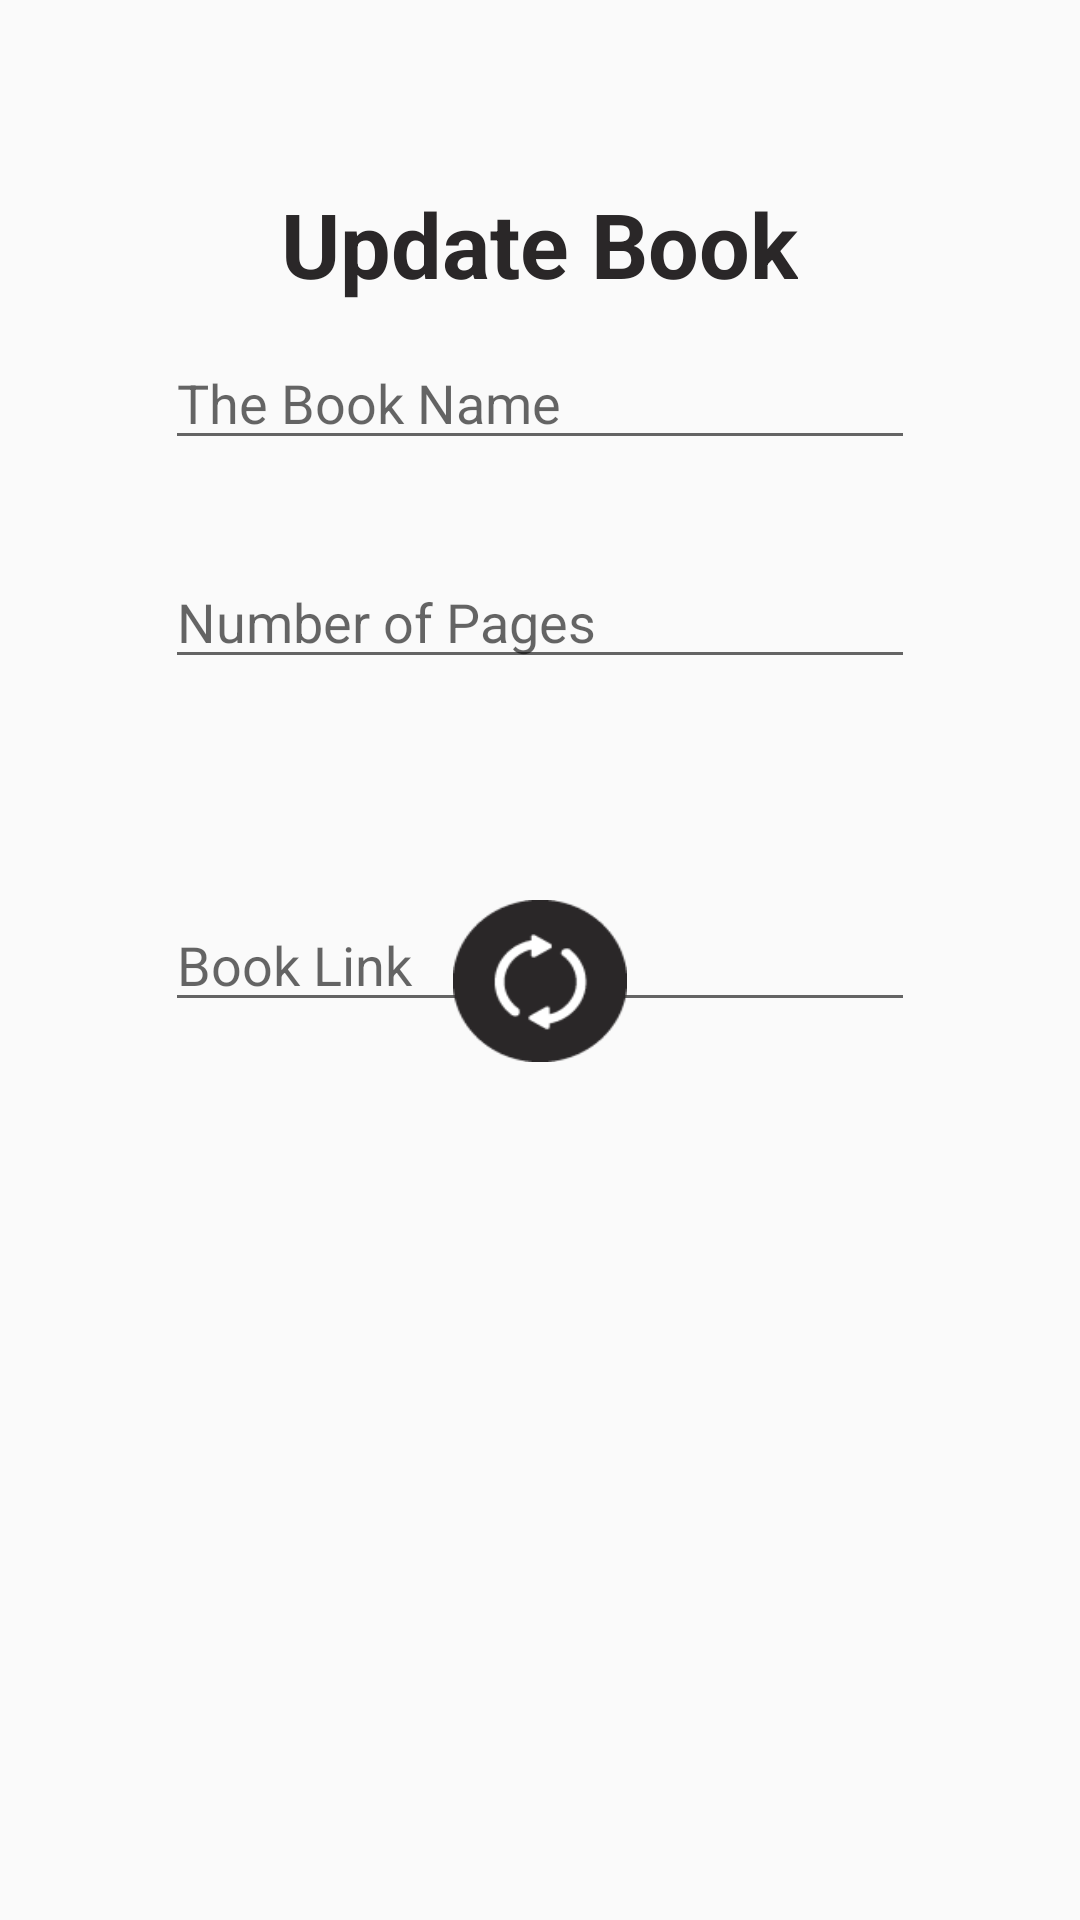

Named icons in this screenshot (1080w x 1920h) and their centers, point (x, y):
update: point (540, 981)
